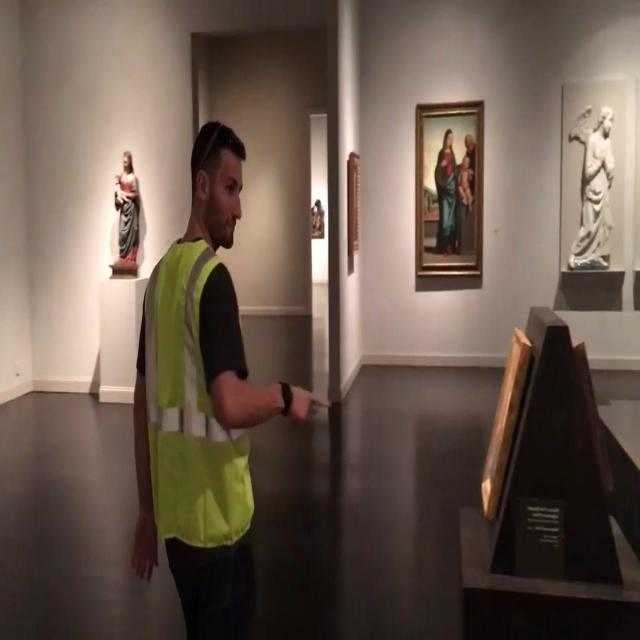Reflective-Jacket: (125, 232, 268, 564)
